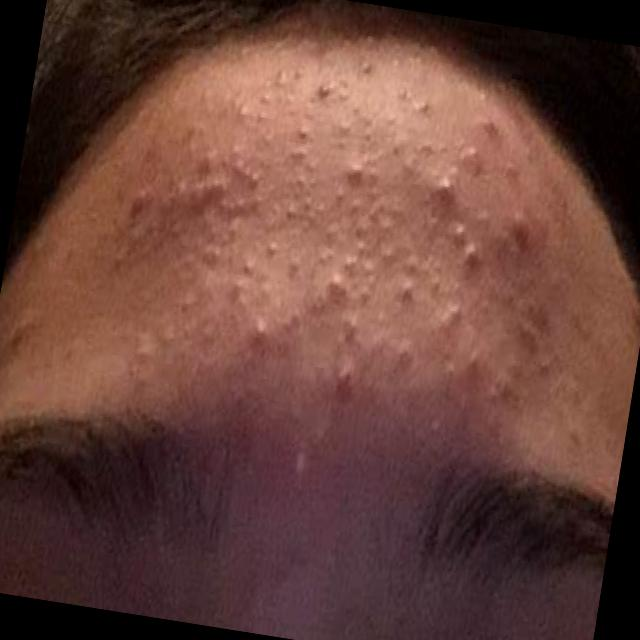fungal: (103, 36, 576, 447)
